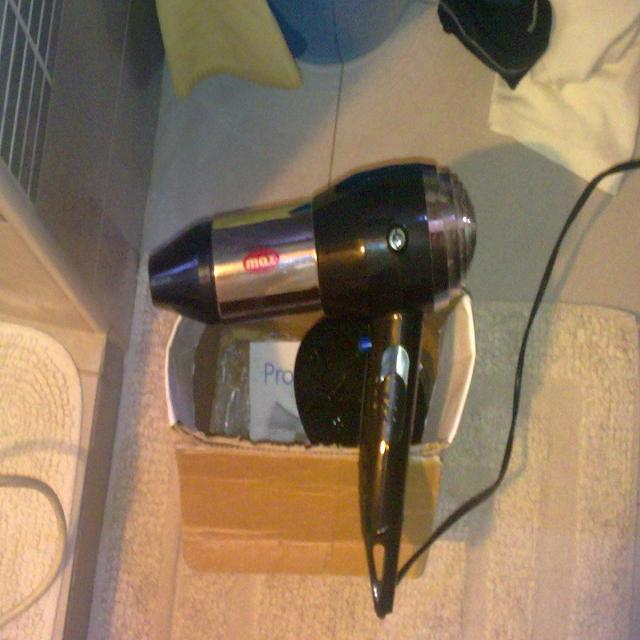dryer: (145, 158, 480, 620)
